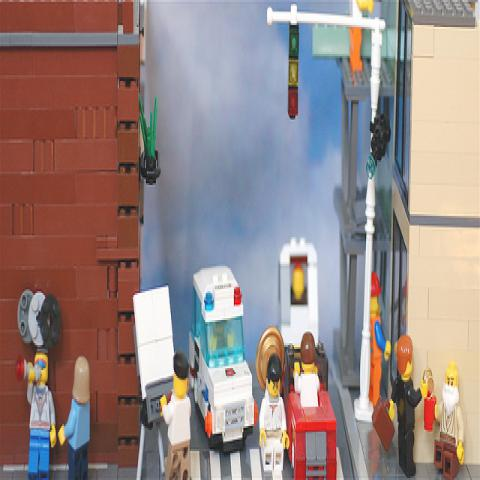truck: (189, 264, 258, 453)
